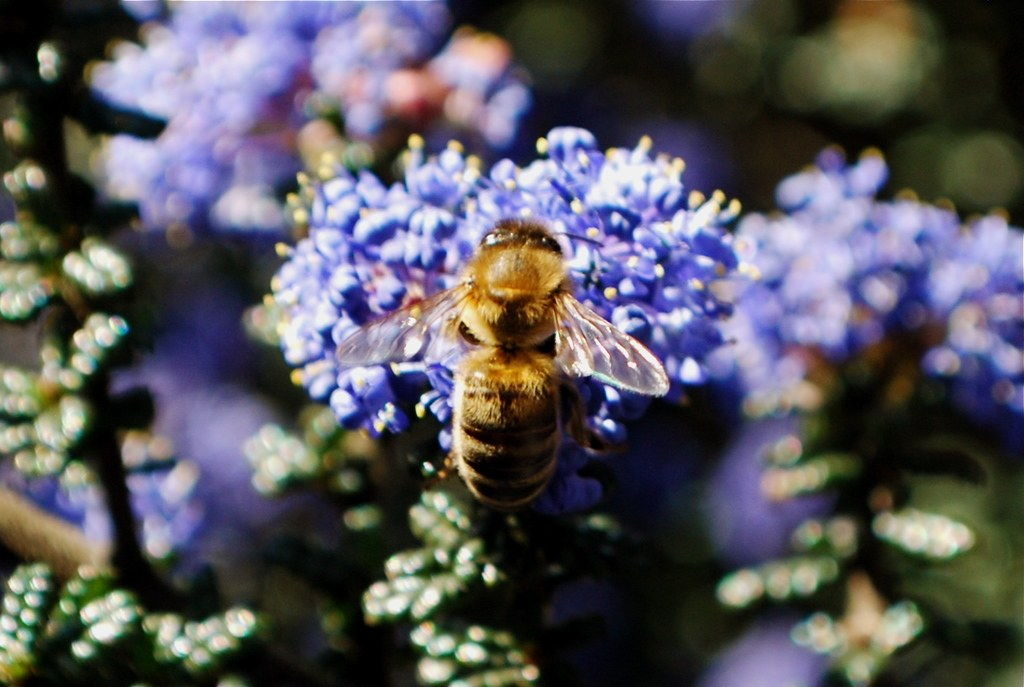bee: (332, 210, 676, 512)
